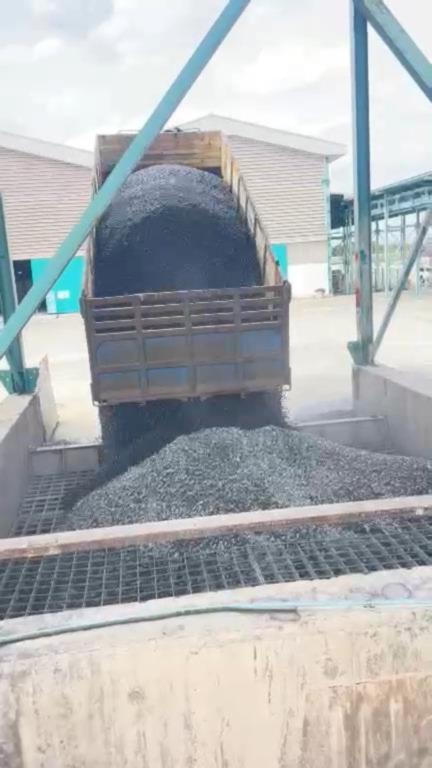gravel: (67, 428, 432, 526), (95, 165, 261, 296), (82, 391, 284, 491), (152, 516, 393, 562)
